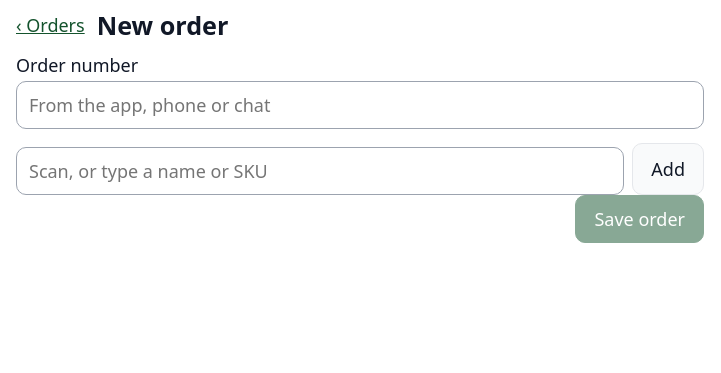
Test: new order screen › adds scanned items, counts repeat scans, and saves the order
Type "ZP-2001" into the field labelled "Order number" at (360, 105), box [16,81,704,129]
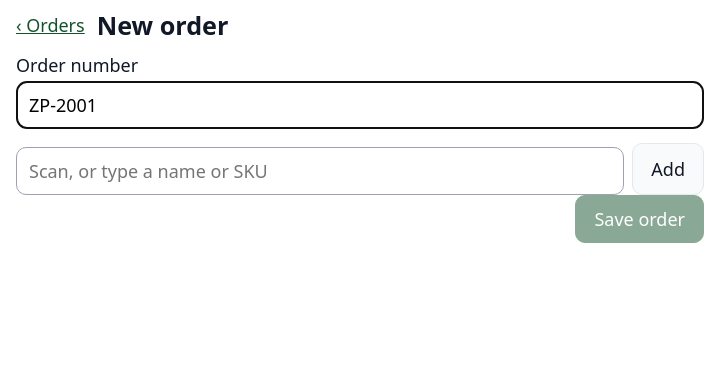
Type "8901" into the field named "Add an item" at (320, 171), box [16,147,624,195]
Then press Enter
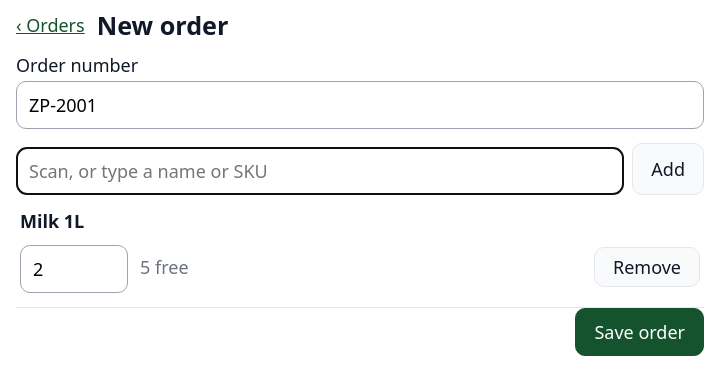
Now the number field named "How many Milk 1L" holds "2", box [20,245,128,293]
Now the text "5 free" is shown, box [140,255,188,279]
Click the button "Save order" at (640, 332), box [575,308,704,356]
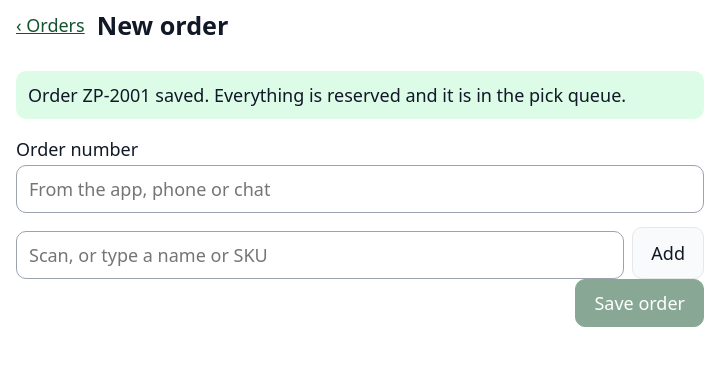
Now the message shows "Order ZP-2001 saved. Everything is reserved", box [28,83,626,107]
Now the field labelled "Order number" is empty, box [16,165,704,213]
